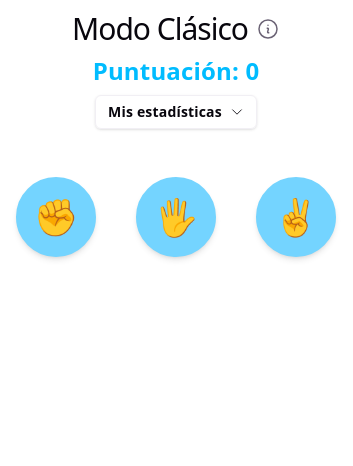
Test: GamePage › with a registered player › renders the Spanish translations
expect the text "Puntuación: 0" is shown: met, box [93,55,259,87]
Click the button named "Papel" at (176, 217), box [136,177,216,257]
Wait 1000 ms
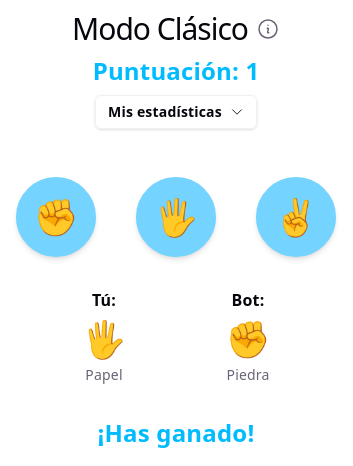
expect the text "¡Has ganado!" is shown: met, box [98,417,254,449]
